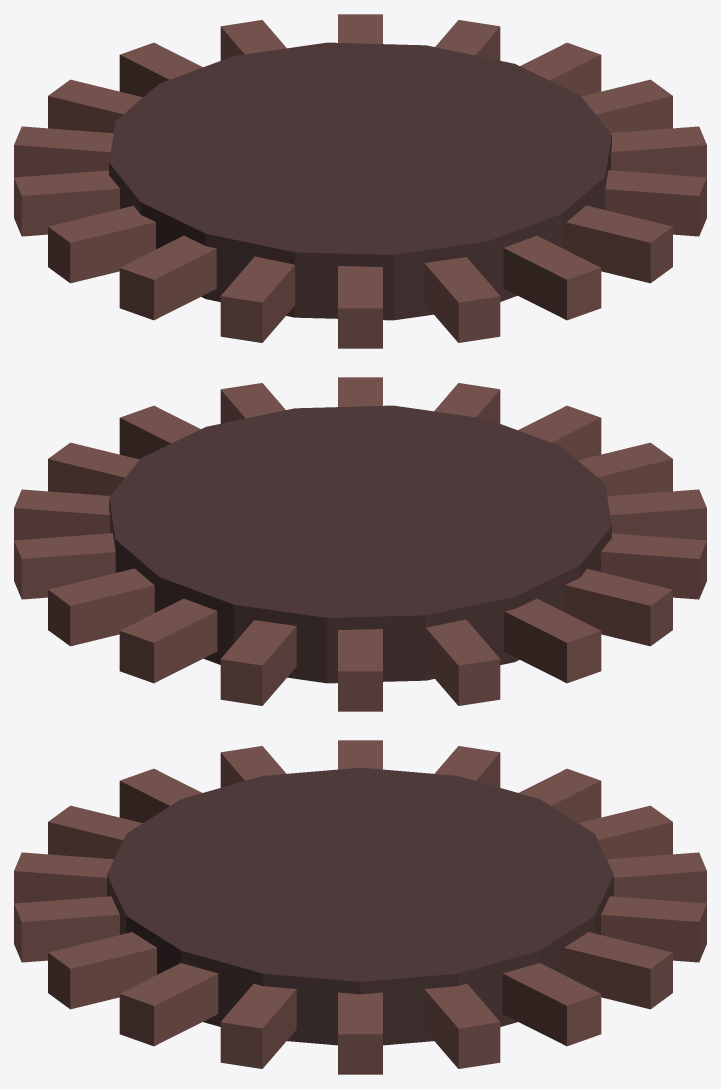
The model's file is DarkRoseWoodMechLarge18ToothCog1.fbx.
The picture shows the model from 3 angles, top to bottom: view 1: azimuth 30°, elevation 25°; view 2: azimuth 150°, elevation 25°; view 3: azimuth 270°, elevation 25°; orthographic projection.
Parts seen in each view (by area): view 1: GearBody, GearTeeth; view 2: GearBody, GearTeeth; view 3: GearBody, GearTeeth.
Boxes of the visible parts, bbox=[...] form: GearBody: bbox=[109, 42, 611, 320]; GearTeeth: bbox=[14, 14, 706, 348]; GearBody: bbox=[109, 405, 611, 683]; GearTeeth: bbox=[14, 377, 706, 711]; GearBody: bbox=[107, 767, 613, 1045]; GearTeeth: bbox=[14, 740, 706, 1074].
Bounding box in the file's own units: 287 × 29.7 × 285.
